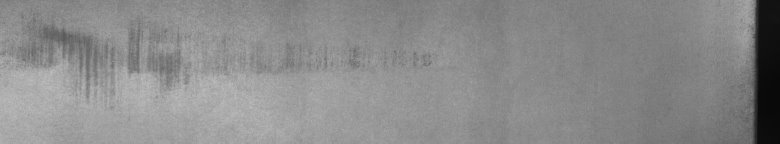ka: (41, 25, 164, 98)
